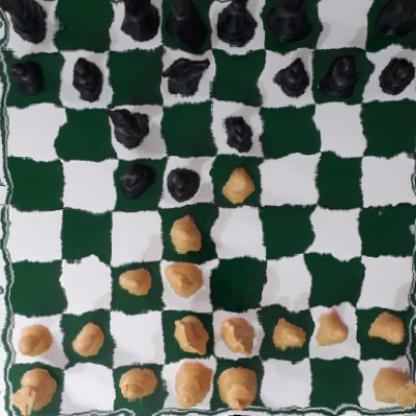black-bishop: (115, 0, 164, 41), (267, 0, 310, 44)
black-king: (217, 0, 261, 46)
black-knight: (106, 104, 154, 150), (163, 55, 207, 98)
black-pawn: (216, 110, 255, 155), (8, 55, 48, 97), (320, 55, 357, 99), (71, 54, 104, 101), (378, 55, 415, 94), (168, 161, 203, 202), (277, 57, 309, 99), (120, 162, 156, 198)
black-queen: (167, 0, 215, 44)
black-rook: (0, 0, 53, 45), (371, 0, 416, 42)
white-bishop: (164, 260, 208, 299), (119, 367, 160, 408)
white-king: (217, 363, 259, 413)
white-knight: (172, 313, 211, 357), (218, 314, 254, 354)
white-pawn: (15, 320, 57, 361), (311, 305, 350, 349), (169, 212, 207, 255), (368, 311, 408, 348), (112, 264, 150, 299), (72, 322, 106, 359), (271, 314, 305, 351), (223, 167, 252, 201)
white-queen: (167, 360, 212, 410)
white-rook: (369, 361, 416, 412), (7, 368, 55, 414)
